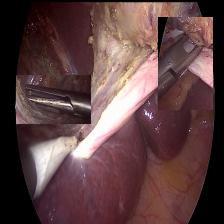Grasper: (157, 16, 211, 107), (15, 74, 90, 122)
Hook: (23, 119, 88, 205)
